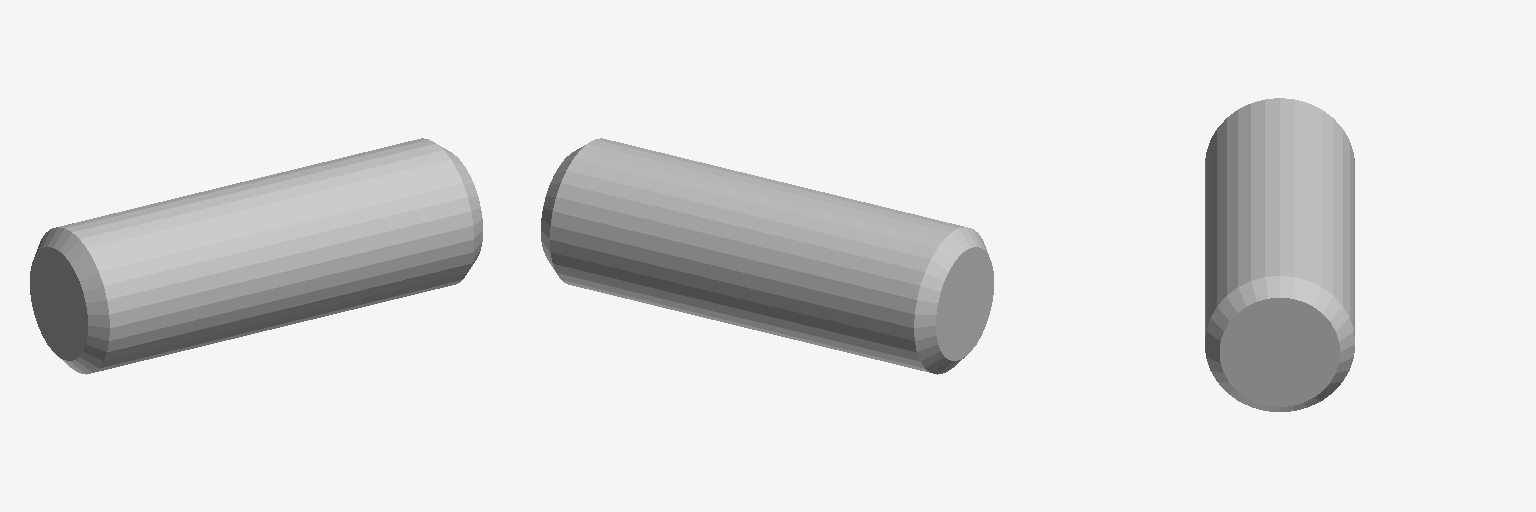
Rendered from molkkyHeitto.obj.
3 renders of one model, left to right at view 1: azimuth 30°, elevation 25°; view 2: azimuth 150°, elevation 25°; view 3: azimuth 270°, elevation 25°, orthographic.
Visible parts, largest first — view 1: Cylinder.002_Cylinder.003; view 2: Cylinder.002_Cylinder.003; view 3: Cylinder.002_Cylinder.003.
Boxes of the visible parts, <box> form: Cylinder.002_Cylinder.003: <box>30,138,482,374</box>; Cylinder.002_Cylinder.003: <box>541,138,993,374</box>; Cylinder.002_Cylinder.003: <box>1205,98,1354,411</box>.
Size of the model in its own units: 2.07 by 0.6876 by 0.6876.